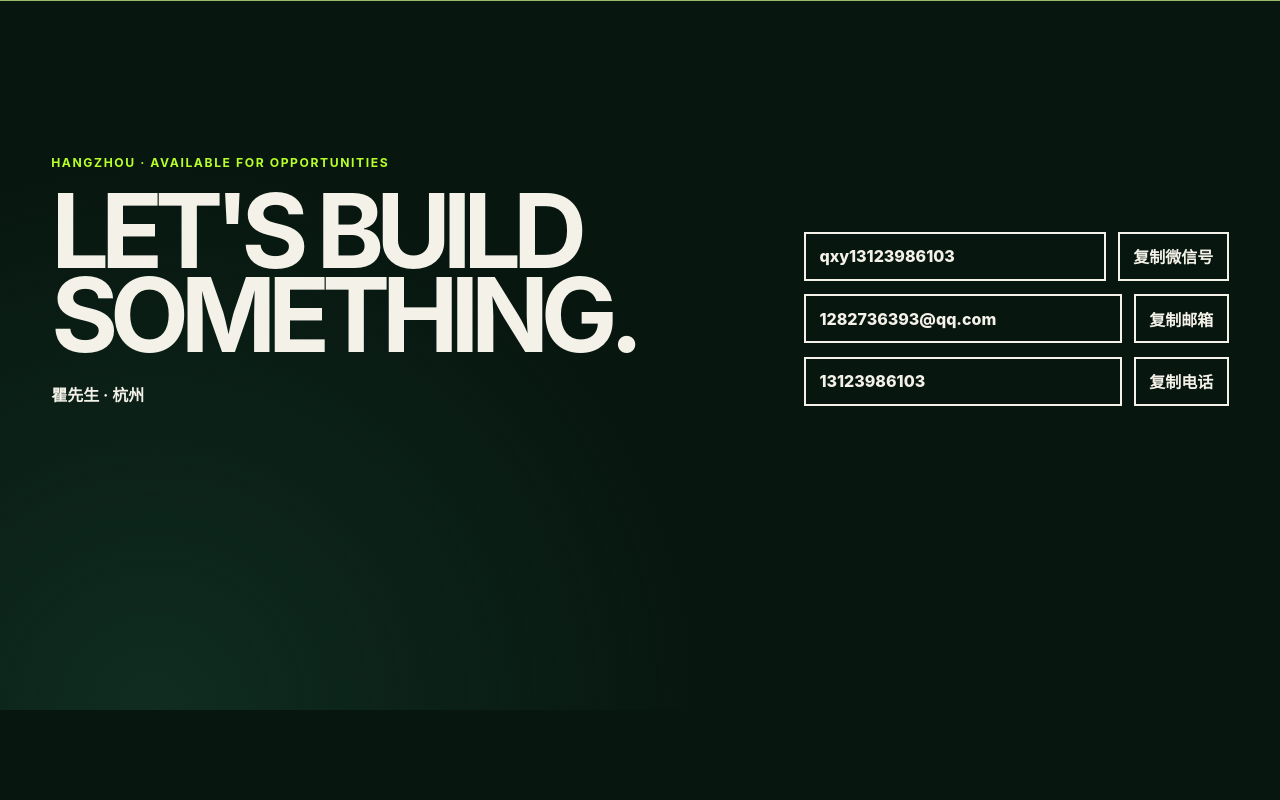
it: ContactSection › offers manual WeChat copying when clipboard access fails
Click the button "复制微信号" at (1173, 256), box [1118,232,1229,281]
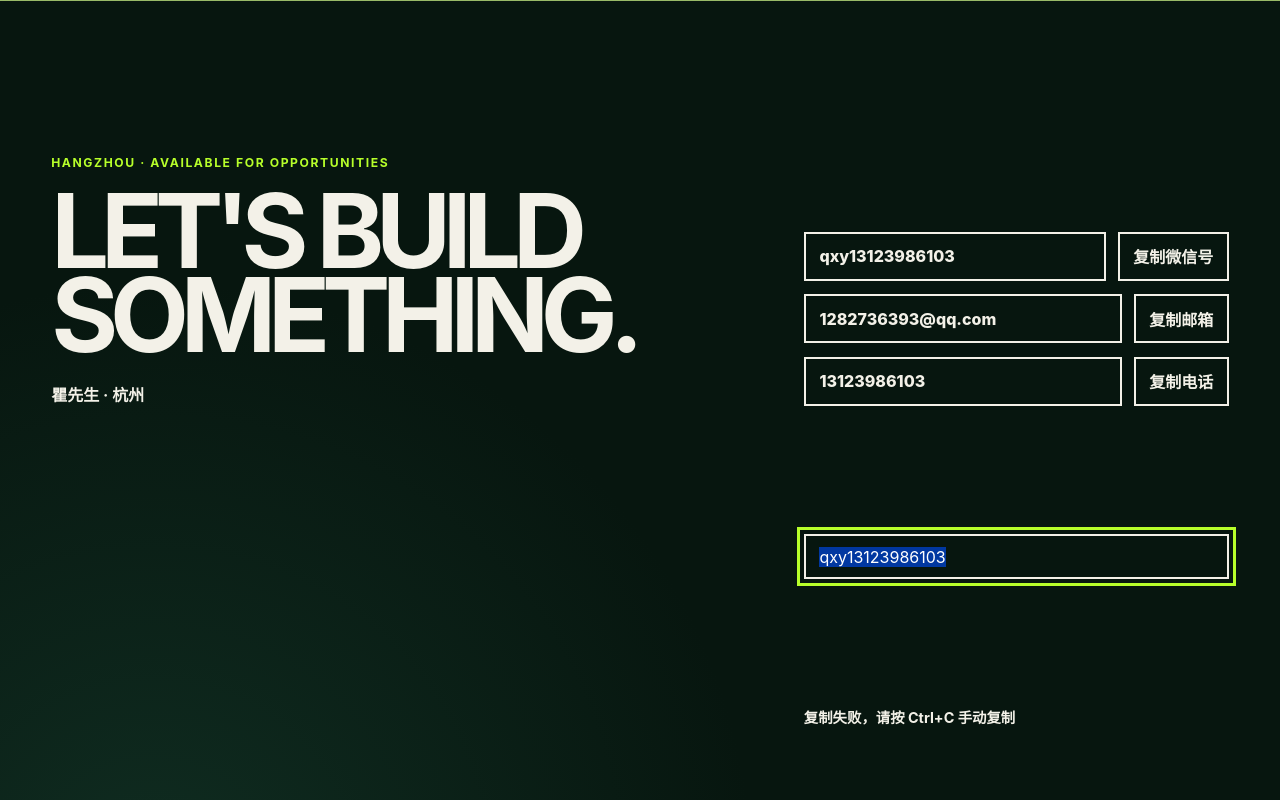
Expected: the field named "手动复制联系方式" holds "qxy13123986103", [804,534,1229,579]
